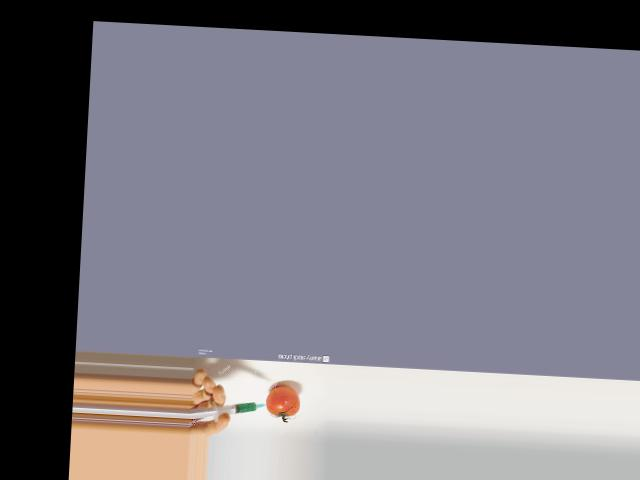tomato: (265, 384, 299, 416)
